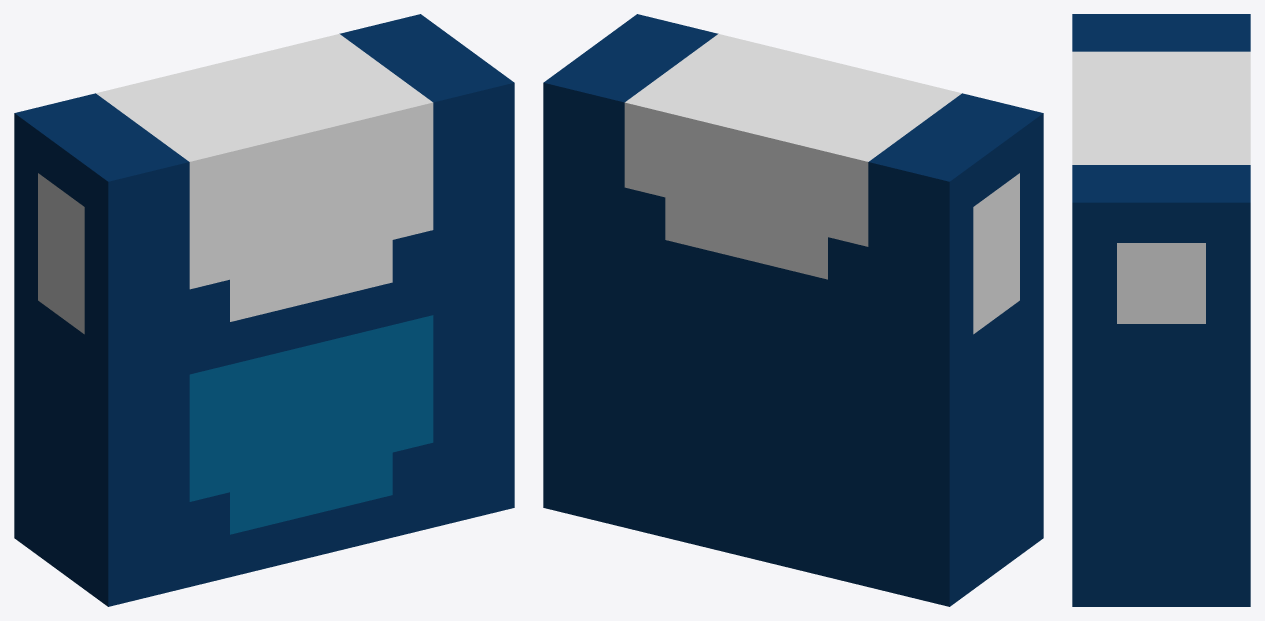
File: BODY.obj
The picture shows the model from 3 angles, left to right: view 1: azimuth 30°, elevation 25°; view 2: azimuth 150°, elevation 25°; view 3: azimuth 270°, elevation 25°; orthographic projection. The views are drawn at different scales.
Bounding box in the file's own units: 1 × 1 × 0.4.
Materials: 1 (1 with a texture image).
